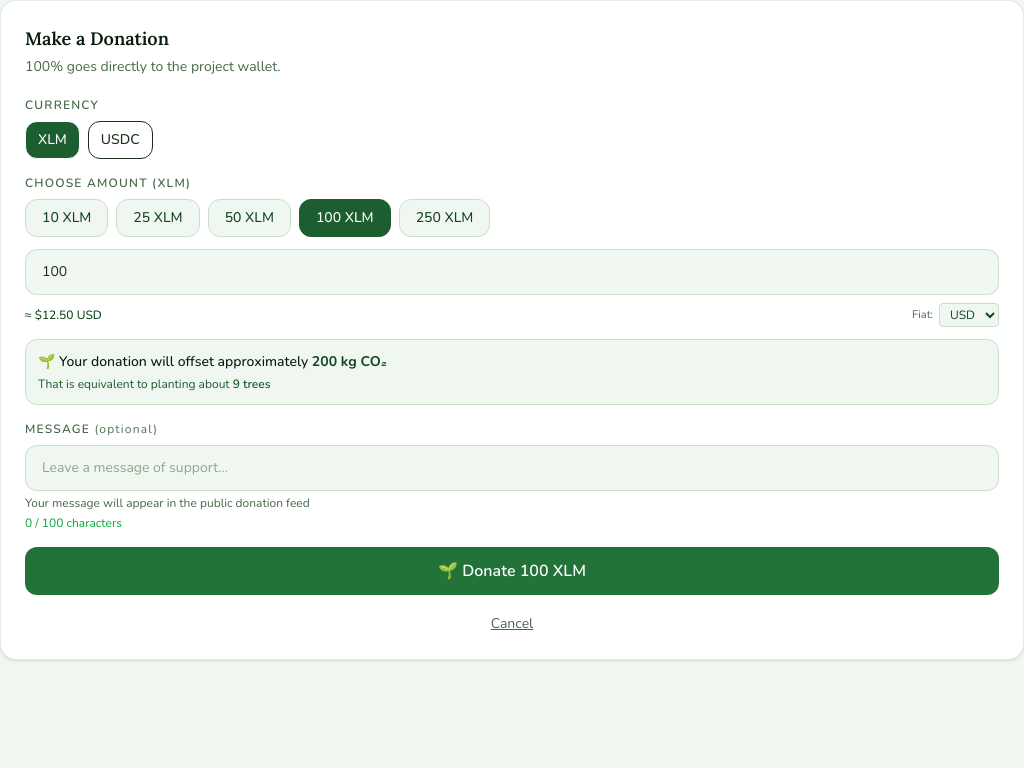
Test case: DonateForm Fiat Currency Equivalents › allows switching fiat currency and updates the equivalent preview
Note: Switch to EUR
Select "EUR" in the dropdown named "Select fiat currency" at (969, 315), box [939, 303, 999, 327]
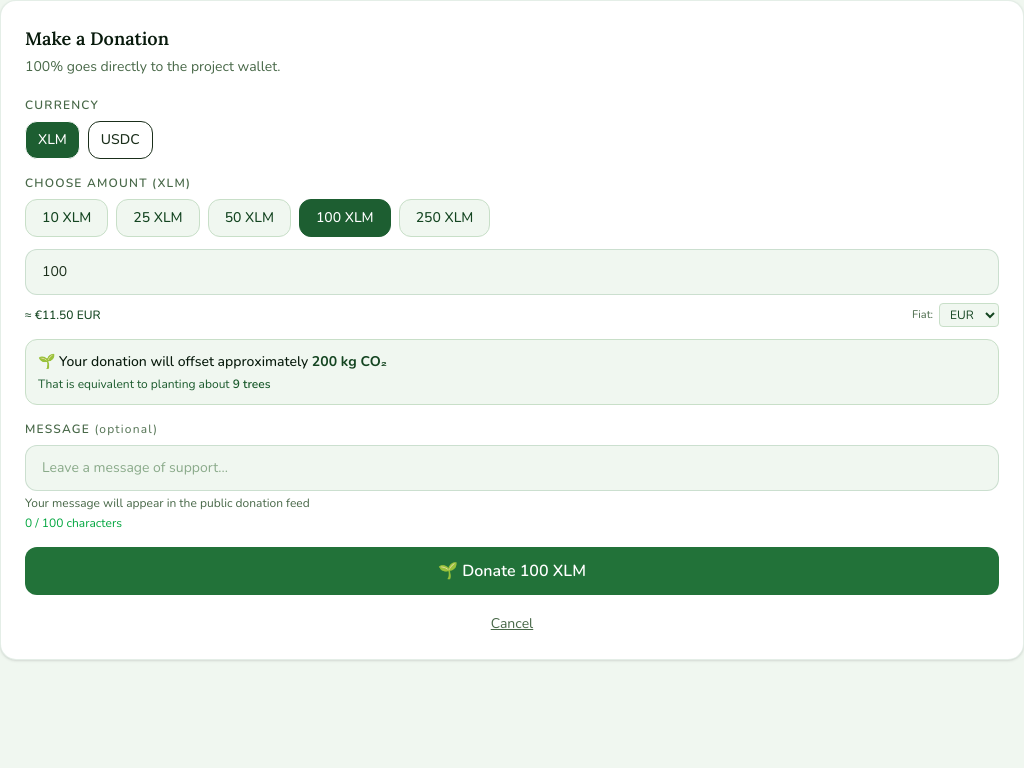
expect the text with test id "fiat-equivalent" reads "≈ €11.50 EUR": met, box [25, 307, 100, 323]
Note: Switch to BRL
Select "BRL" in the dropdown named "Select fiat currency" at (969, 315), box [939, 303, 999, 327]
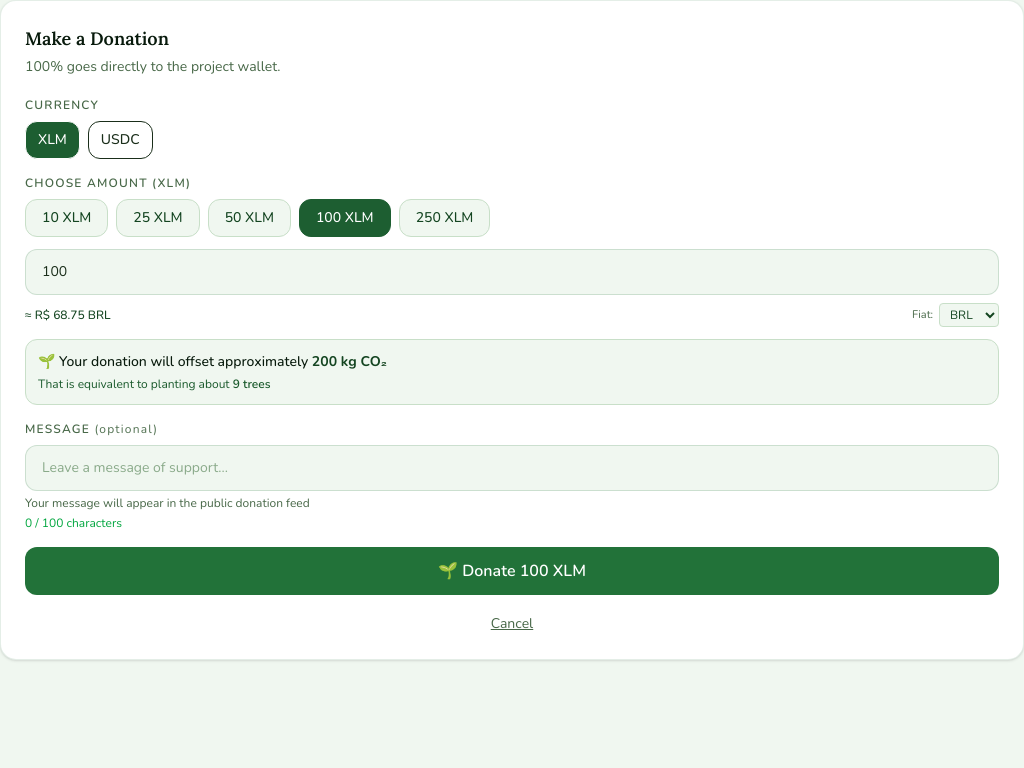
expect the text with test id "fiat-equivalent" reads "≈ R$ 68.75 BRL": met, box [25, 307, 111, 323]
